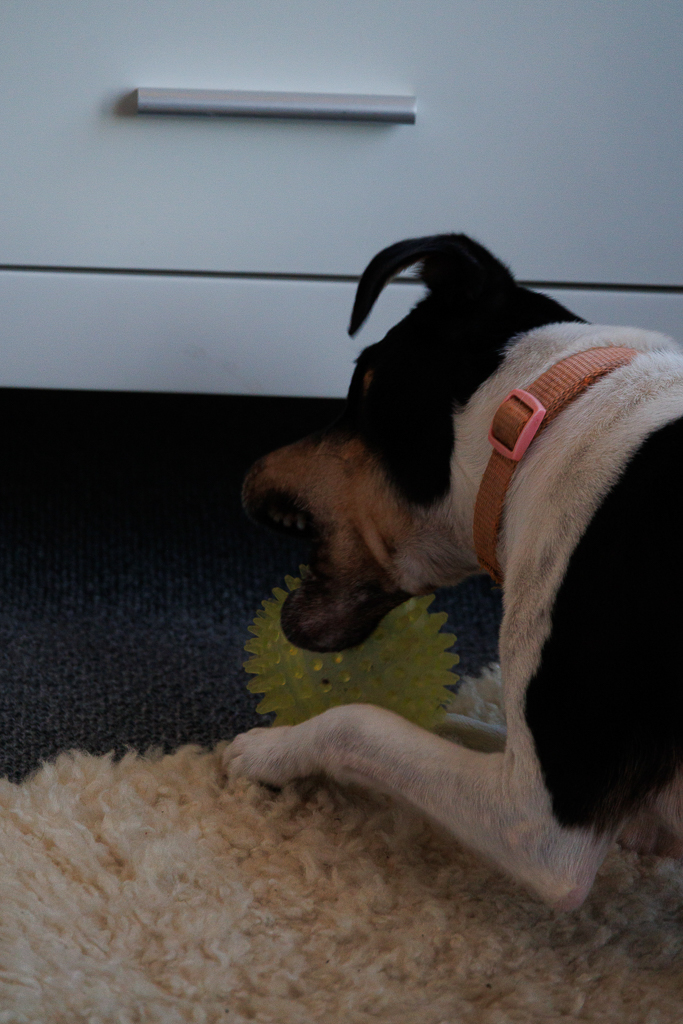Dog: (210, 224, 682, 924)
